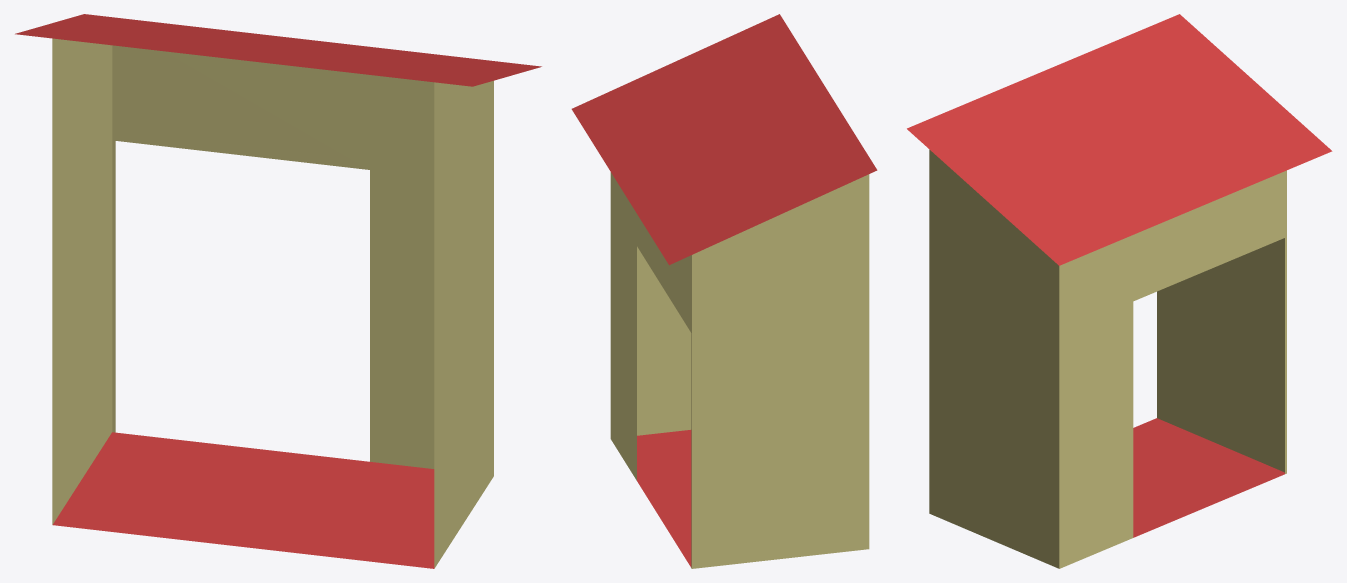
The picture shows the model from 3 angles, left to right: view 1: azimuth 30°, elevation 25°; view 2: azimuth 150°, elevation 25°; view 3: azimuth 270°, elevation 25°; orthographic projection. The views are drawn at different scales.
Size of the model in its own units: 9.91 by 9.93 by 10.14.
